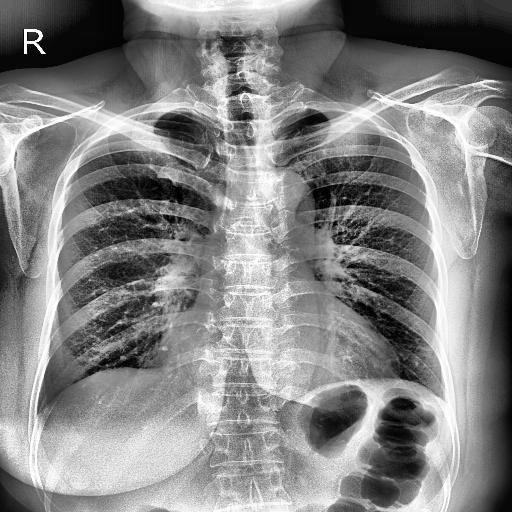0- Aortic enlargement: (254, 170, 316, 244), (254, 168, 316, 240)
3- Cardiomegaly: (155, 327, 403, 387), (162, 328, 404, 386), (158, 330, 398, 388)
